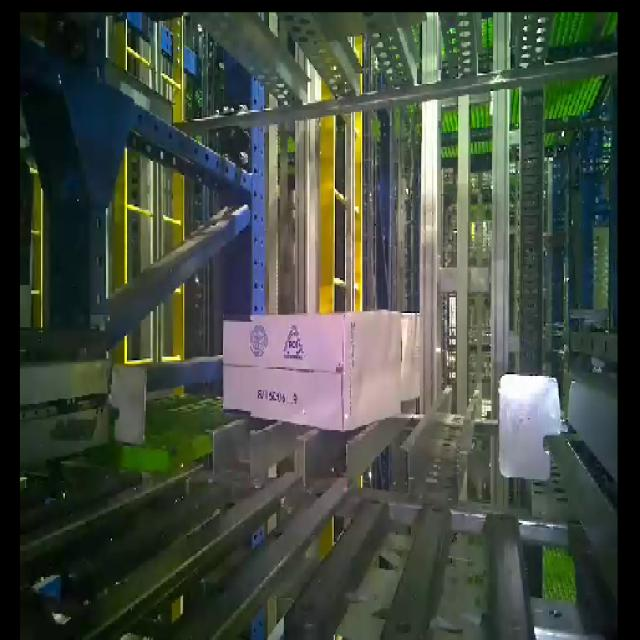box: (222, 314, 348, 434)
